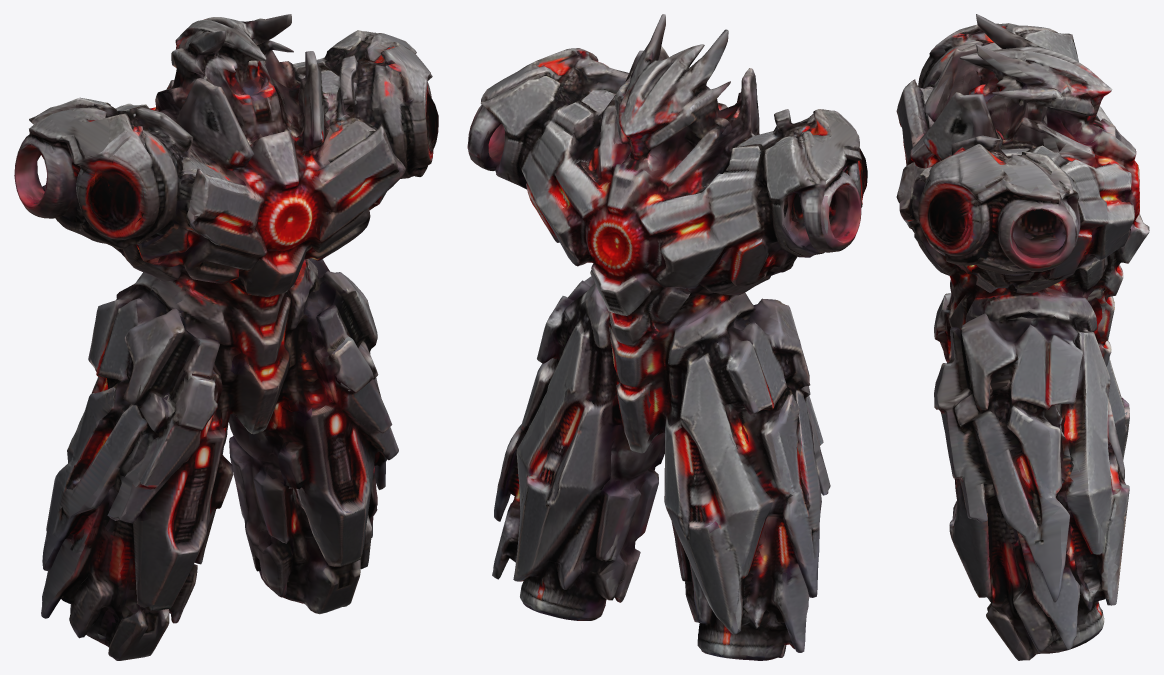
The model's file is nexo_body.glb.
3 renders of one model, left to right at view 1: azimuth 30°, elevation 25°; view 2: azimuth 150°, elevation 25°; view 3: azimuth 270°, elevation 25°, orthographic. The views are drawn at different scales.
Parts seen in each view (by area): view 1: input; view 2: input; view 3: input.
Boxes of the visible parts, x1,y1,x2,y2 form: input: [14, 14, 438, 660]; input: [467, 14, 867, 660]; input: [896, 14, 1149, 660].
Bounding box in the file's own units: 2.3 × 3.5 × 1.38.
1 material, 1 textured.
